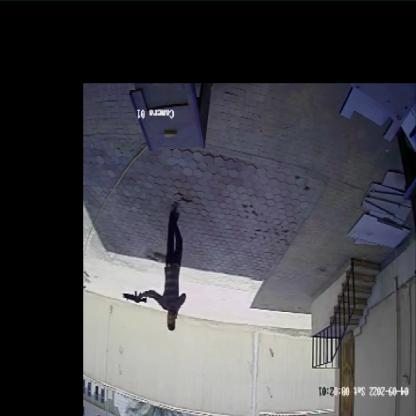handgun: (122, 285, 150, 307)
